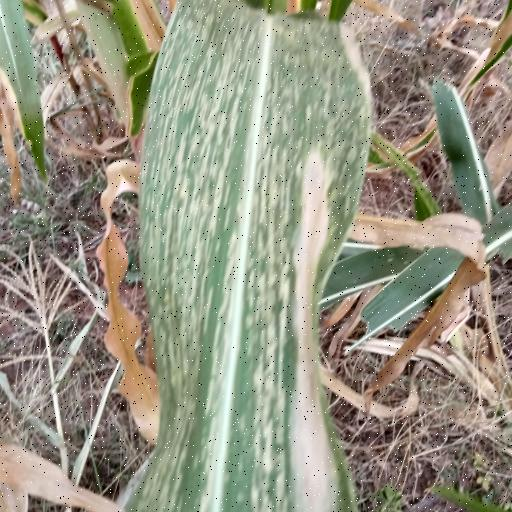Corn_Streak: (122, 0, 379, 512)
